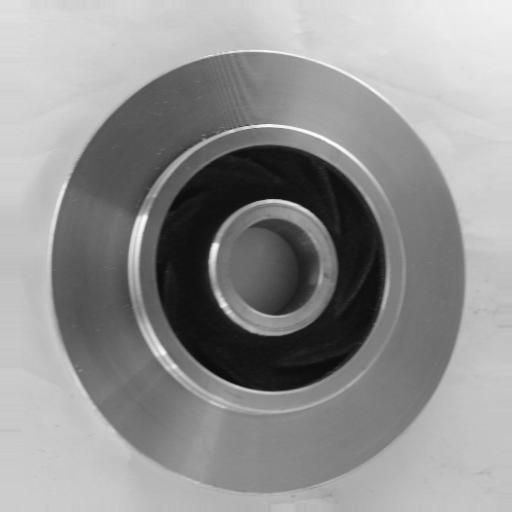polished_casting: (45, 50, 468, 494)
